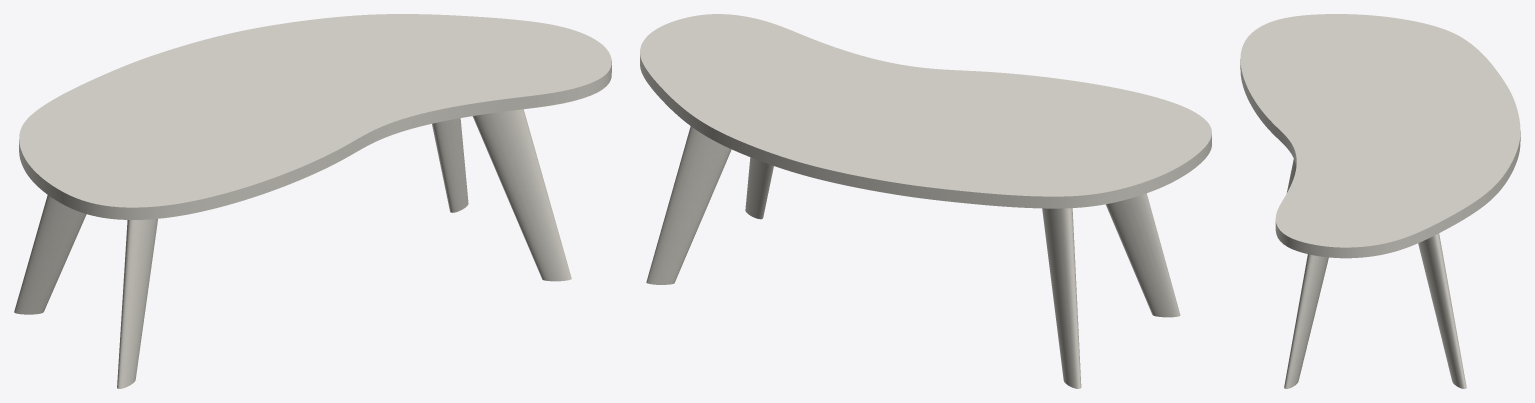
The model's file is pale_leaf1_standard_ferdinantwalnut.glb.
The picture shows the model from 3 angles, left to right: view 1: azimuth 30°, elevation 25°; view 2: azimuth 150°, elevation 25°; view 3: azimuth 270°, elevation 25°; orthographic projection. The views are drawn at different scales.
Parts seen in each view (by area): view 1: standard_leaf1, ferdinandwalnut; view 2: standard_leaf1, ferdinandwalnut; view 3: standard_leaf1, ferdinandwalnut.
Boxes of the visible parts, x1,y1,x2,y2 form: standard_leaf1: (19,14,611,219); ferdinandwalnut: (14,109,571,388); standard_leaf1: (640,14,1211,208); ferdinandwalnut: (646,126,1180,388); standard_leaf1: (1240,14,1520,258); ferdinandwalnut: (1284,159,1466,388).
Size of the model in its own units: 7.5 by 2.51 by 3.8.
Materials: 1 (1 with a texture image).
